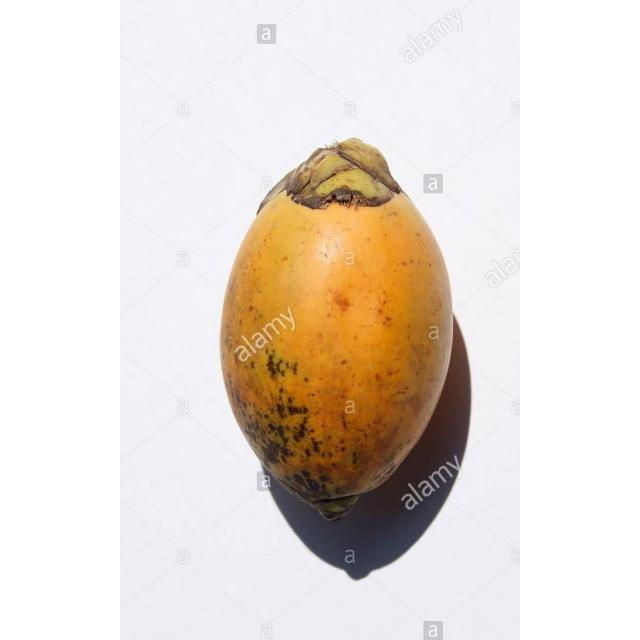good: (219, 138, 454, 523)
